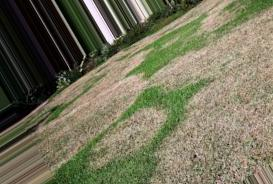patch: (200, 98, 273, 159), (164, 142, 200, 184), (176, 62, 219, 78), (240, 41, 262, 69), (55, 128, 83, 147), (128, 129, 152, 148), (96, 105, 120, 117)
